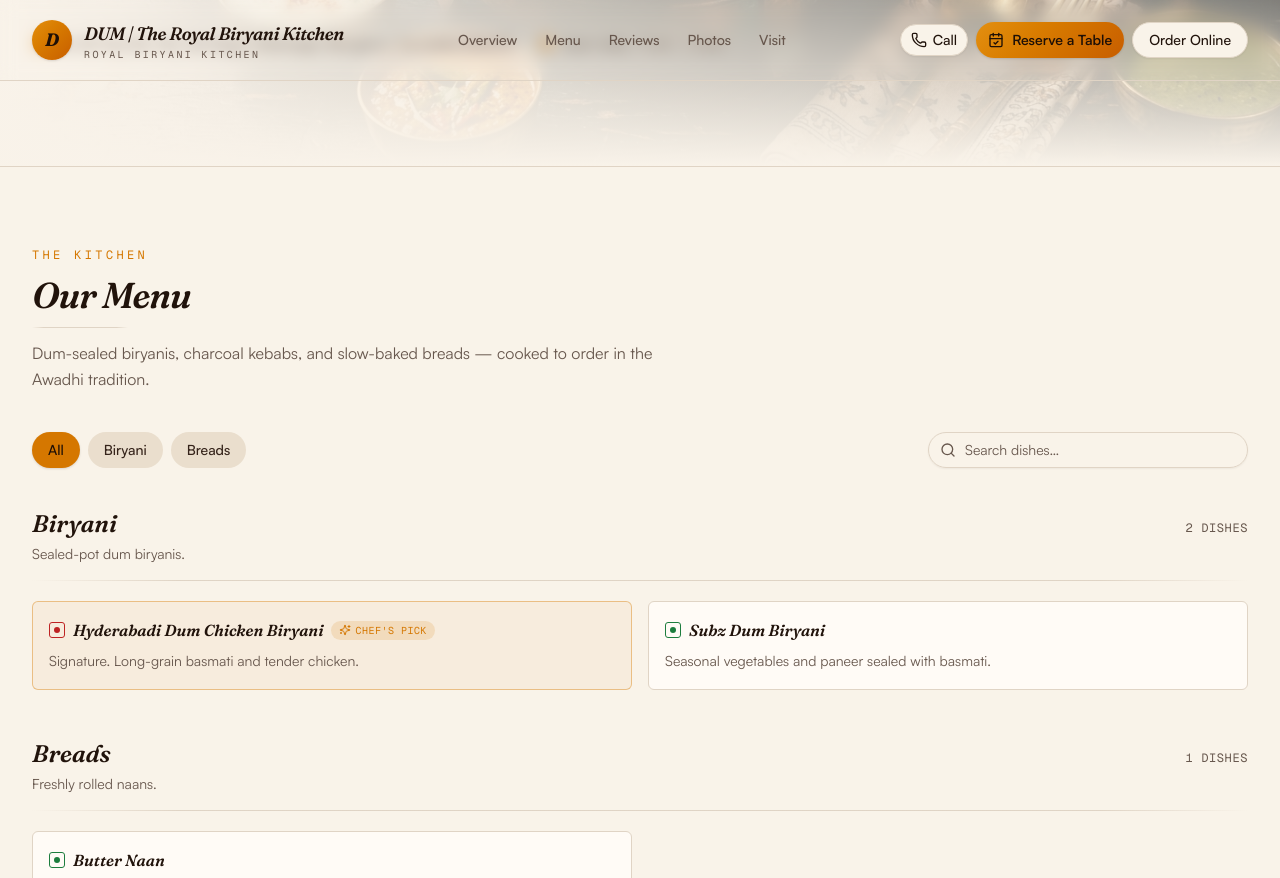
Test: Menu reflow controls that survive price removal › searches by dish name and clears back to the full menu
(page scrolled)
Type "naan" into the search field named "Search the menu" at (1088, 450), box 928,432 -> 1248,468
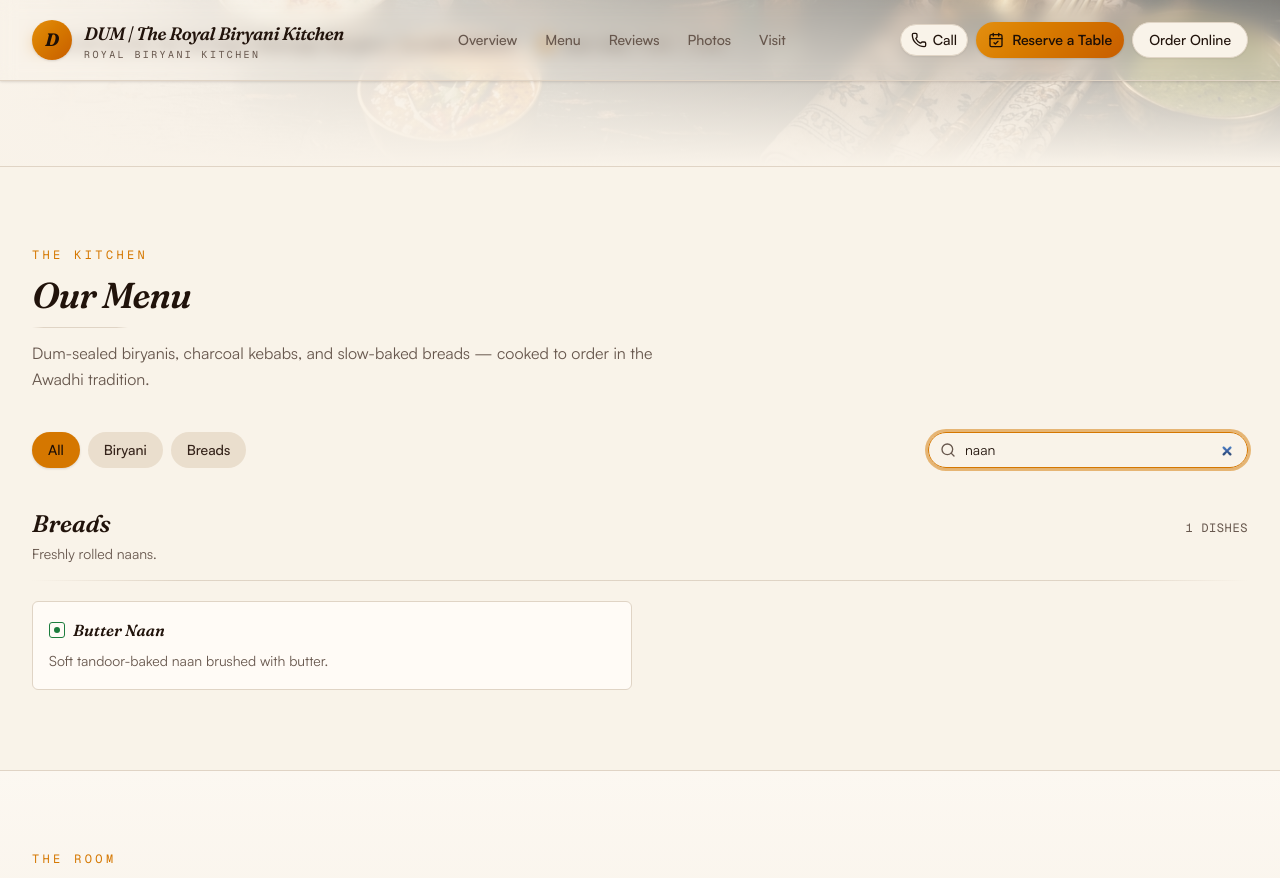
Expected: the heading "Butter Naan" is shown, 73,618 -> 165,642
Expected: the heading "Subz Dum Biryani" is gone
Clear the search field named "Search the menu" at (1088, 450), box 928,432 -> 1248,468
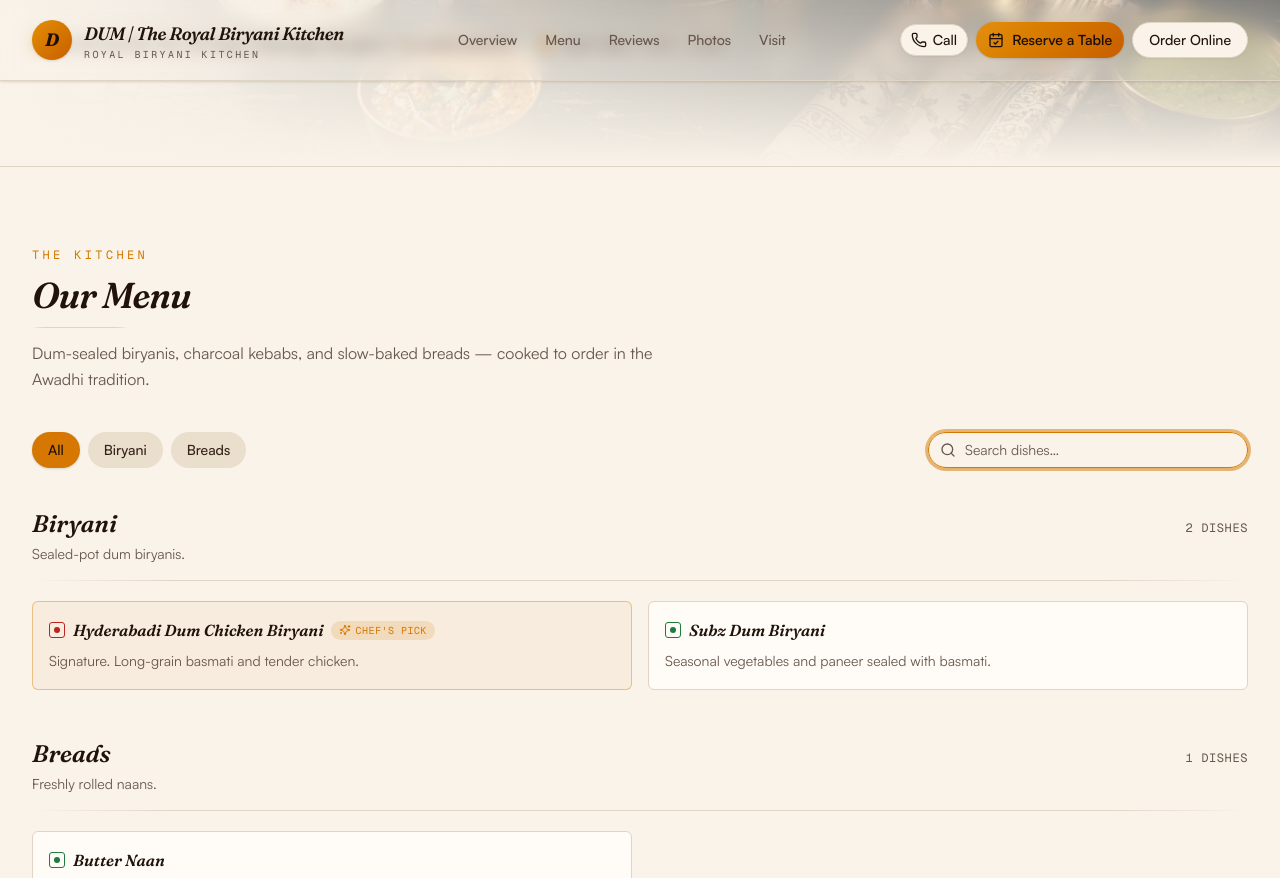
Expected: the heading "Subz Dum Biryani" is shown, 689,618 -> 825,642
